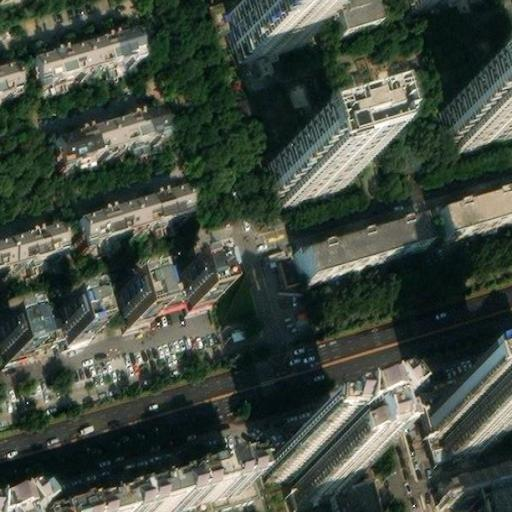building: (299, 215, 424, 274), (75, 182, 190, 239), (269, 421, 356, 496), (116, 461, 235, 512), (55, 102, 166, 156), (434, 369, 512, 443), (31, 24, 139, 76), (266, 142, 352, 202), (0, 293, 66, 330), (436, 480, 512, 512), (149, 486, 239, 512), (333, 472, 384, 512), (81, 274, 129, 313), (143, 256, 190, 295), (54, 285, 92, 330), (117, 268, 154, 312), (178, 250, 215, 294), (271, 253, 304, 294), (59, 495, 120, 512), (0, 64, 20, 97)
